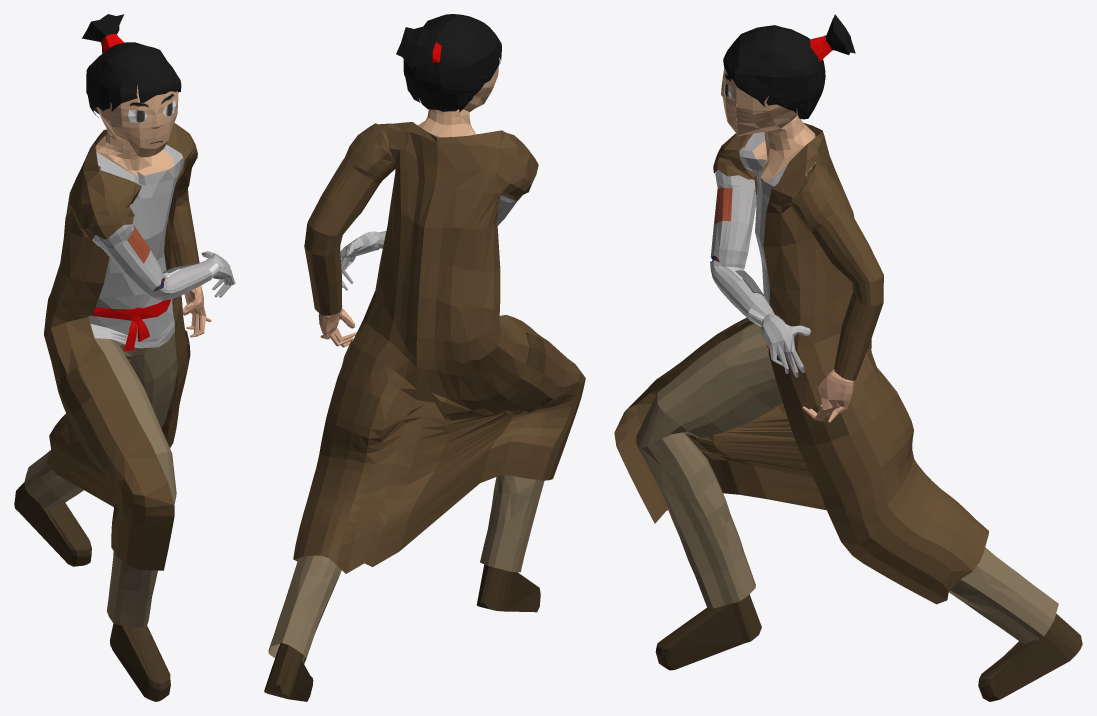
Rendered from One_DF_000011.obj.
3 views of the same model, side by side, from view 1: azimuth 30°, elevation 25°; view 2: azimuth 150°, elevation 25°; view 3: azimuth 270°, elevation 25° (orthographic). The views are drawn at different scales.
Parts seen in each view (by area): view 1: Hair_Cube.004; view 2: Hair_Cube.004; view 3: Hair_Cube.004.
Boxes of the visible parts, bbox=[...] form: Hair_Cube.004: bbox=[14, 14, 235, 701]; Hair_Cube.004: bbox=[264, 14, 585, 701]; Hair_Cube.004: bbox=[614, 14, 1082, 701].
Size of the model in its own units: 1.12 by 3.63 by 2.32.
